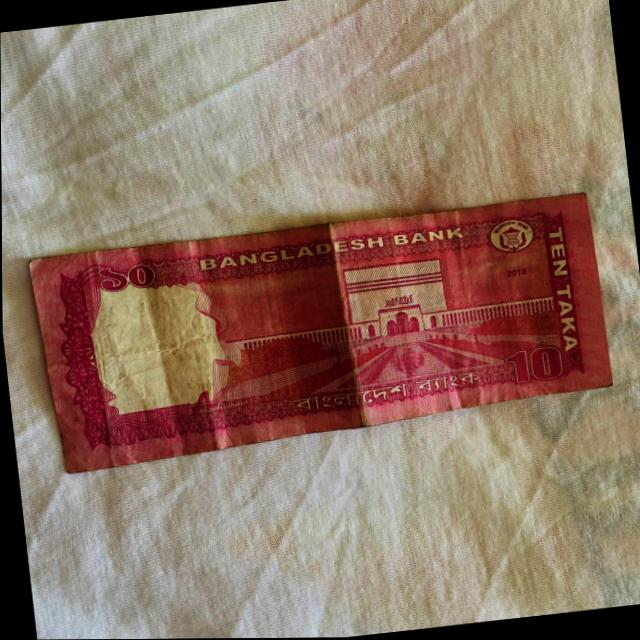Taka: (31, 181, 631, 469)
